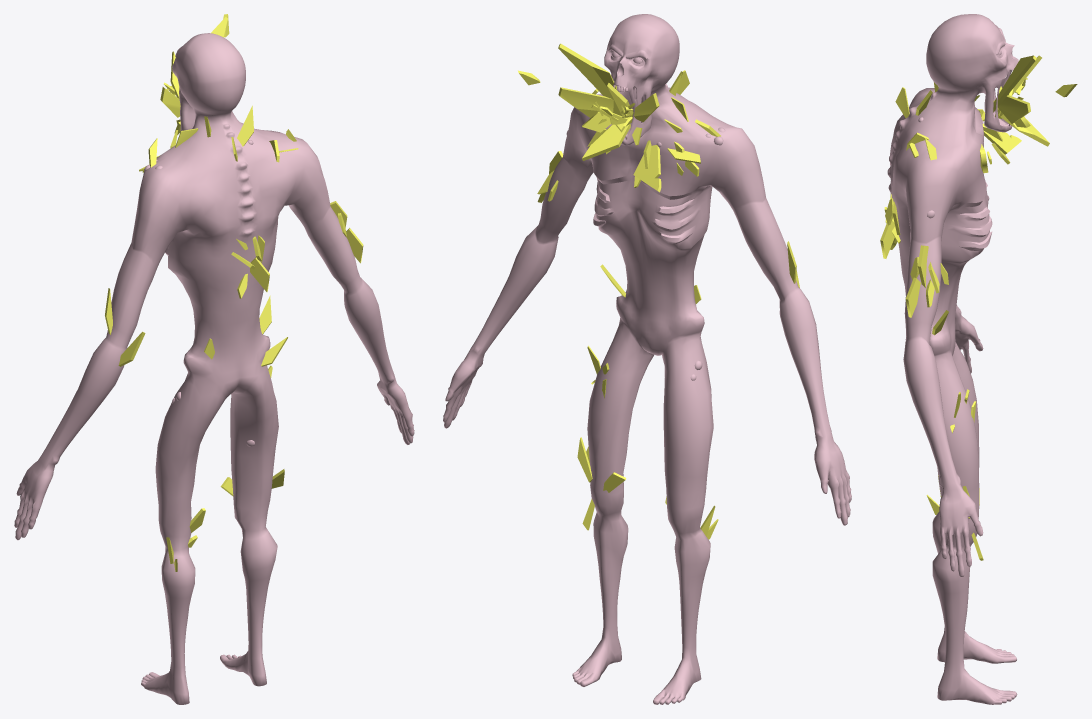
Rendered from Ennemi_Moyen.fbx.
3 renders of one model, left to right at view 1: azimuth 30°, elevation 25°; view 2: azimuth 150°, elevation 25°; view 3: azimuth 270°, elevation 25°, orthographic. The views are drawn at different scales.
Visible parts, largest first — view 1: Ennemi_Moyen; view 2: Ennemi_Moyen; view 3: Ennemi_Moyen.
Boxes of the visible parts, box(x1,y1,x2,y2) form: Ennemi_Moyen: box(14, 14, 414, 704); Ennemi_Moyen: box(443, 14, 851, 704); Ennemi_Moyen: box(880, 14, 1077, 704).
Bounding box in the file's own units: 142 × 223 × 60.35.
